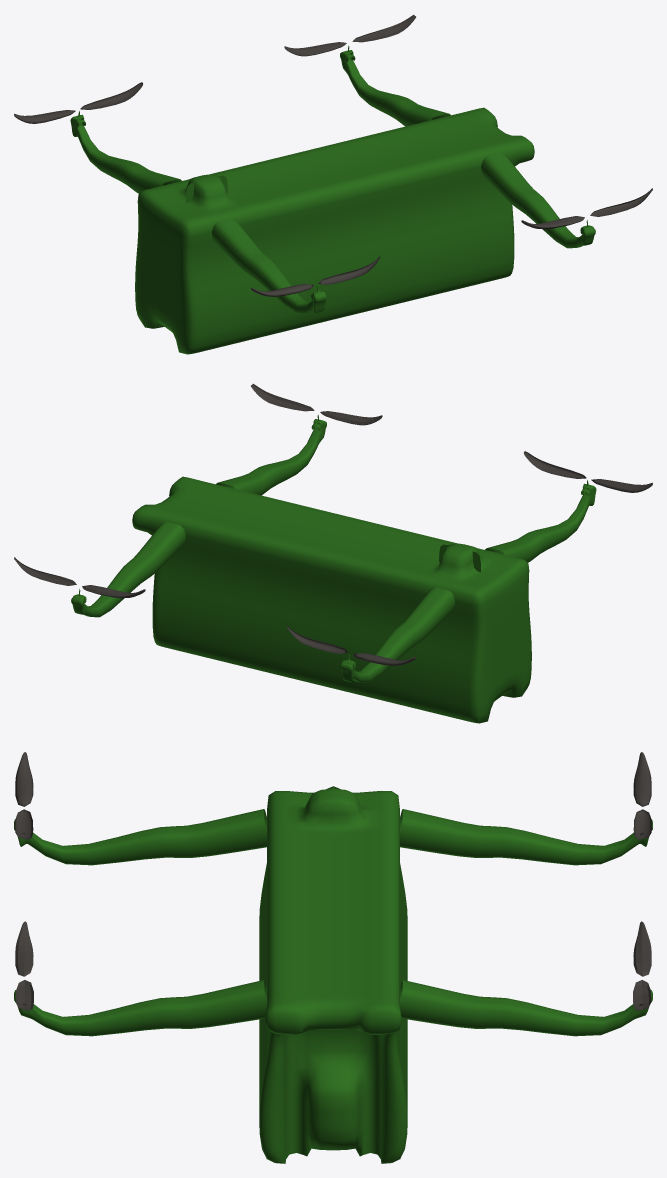
File: greenDroneFinal.fbx
3 renders of one model, top to bottom at view 1: azimuth 30°, elevation 25°; view 2: azimuth 150°, elevation 25°; view 3: azimuth 270°, elevation 25°, orthographic. The views are drawn at different scales.
Parts seen in each view (by area): view 1: Cube.002; view 2: Cube.002; view 3: Cube.002.
Boxes of the visible parts, x1,y1,x2,y2 form: Cube.002: (14,15,652,354); Cube.002: (14,384,652,723); Cube.002: (14,752,652,1163).
Bounding box in the file's own units: 99.15 × 35.67 × 105.
